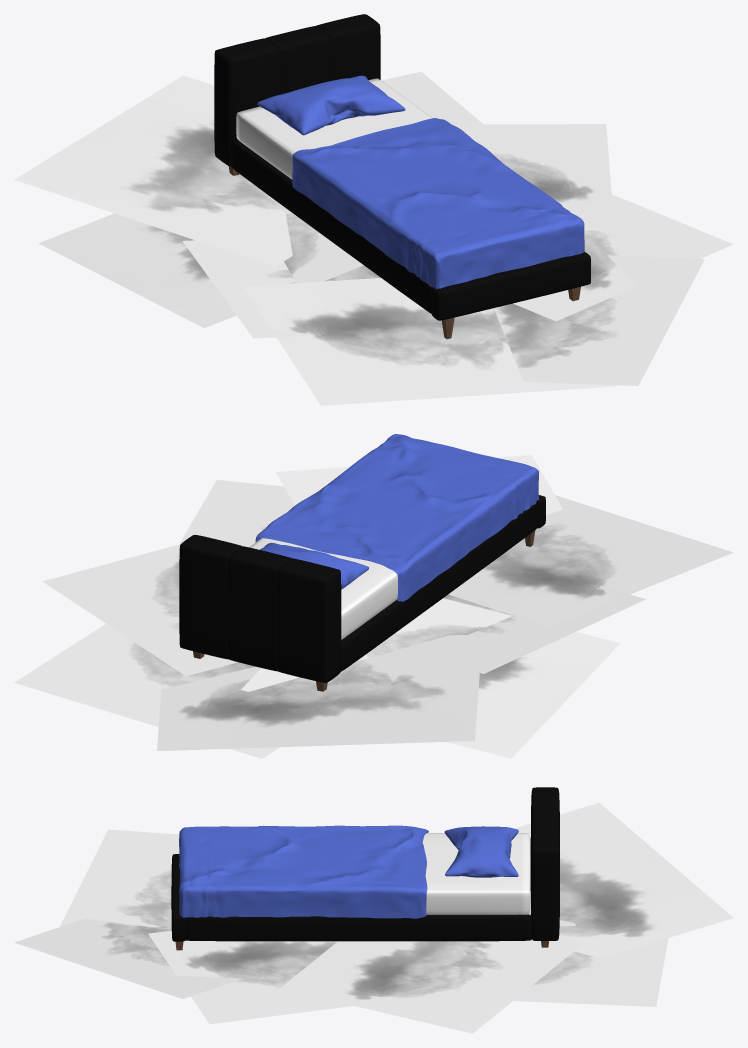
The model's file is Bed.fbx.
3 renders of one model, top to bottom at view 1: azimuth 30°, elevation 25°; view 2: azimuth 150°, elevation 25°; view 3: azimuth 270°, elevation 25°, orthographic. The views are drawn at different scales.
Visible parts, largest first — view 1: Clouds, ClothBlue, Leather, ClolthWhite; view 2: Clouds, ClothBlue, Leather, ClolthWhite; view 3: Clouds, ClothBlue, Leather, ClolthWhite.
Part boxes in pixels (x1,y1,x2,y2): Clouds: [14, 71, 733, 405]; ClothBlue: [257, 75, 584, 288]; Leather: [214, 14, 590, 320]; ClolthWhite: [236, 78, 432, 179]; Clouds: [14, 455, 733, 758]; ClothBlue: [255, 434, 539, 601]; Leather: [179, 495, 545, 682]; ClolthWhite: [249, 538, 397, 639]; Clouds: [14, 802, 733, 1033]; ClothBlue: [179, 825, 518, 918]; Leather: [171, 787, 559, 941]; ClolthWhite: [422, 833, 530, 914].
Bounding box in the file's own units: 313 × 83.53 × 434.
